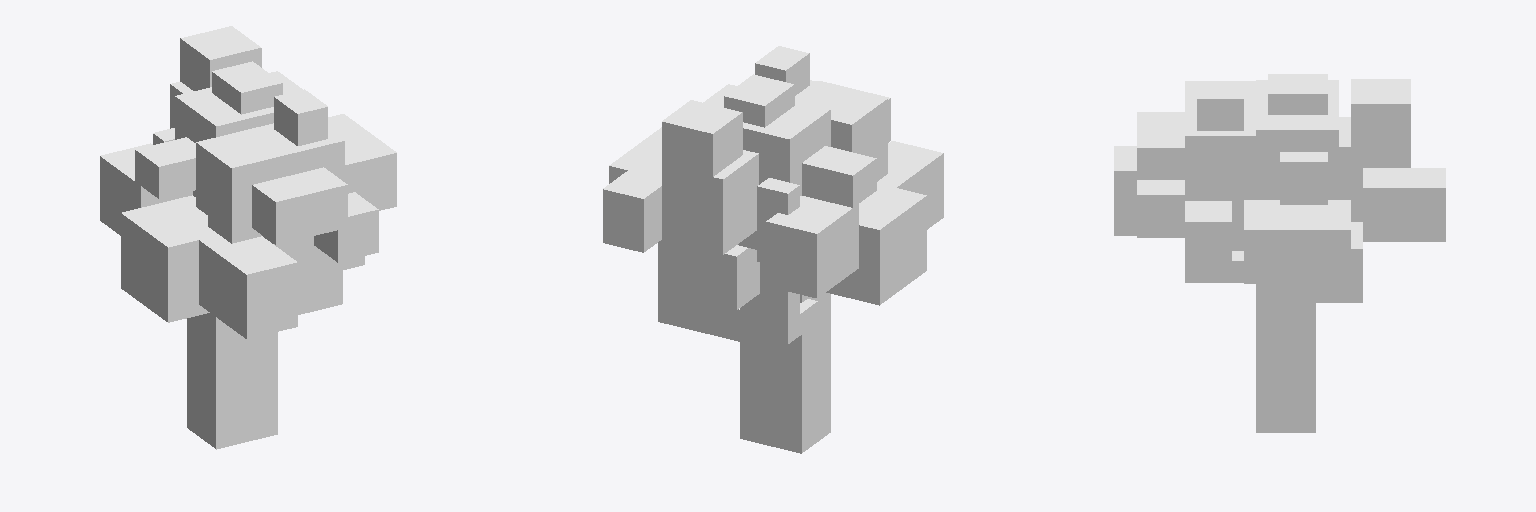
File: sakura.obj
3 renders of one model, left to right at view 1: azimuth 30°, elevation 25°; view 2: azimuth 150°, elevation 25°; view 3: azimuth 270°, elevation 25°, orthographic.
Visible parts, largest first — view 1: object 1; view 2: object 1; view 3: object 1.
Boxes of the visible parts, x1,y1,x2,y2 form: object 1: [100, 26, 396, 449]; object 1: [603, 46, 943, 453]; object 1: [1114, 74, 1445, 432].
Size of the model in its own units: 9.6 by 12.8 by 11.2.